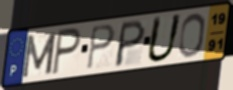M: (20, 31, 58, 80)
O: (177, 12, 206, 59)
P: (112, 18, 148, 68), (50, 26, 83, 77), (86, 24, 117, 72)
U: (145, 13, 185, 65)
